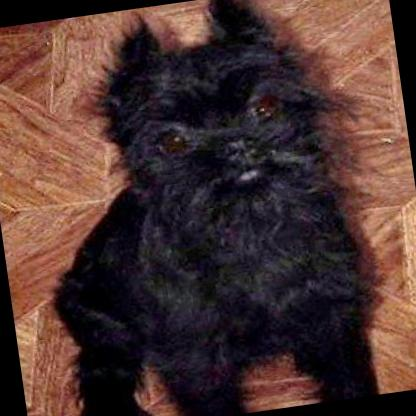affenpinscher: (6, 0, 402, 416)
